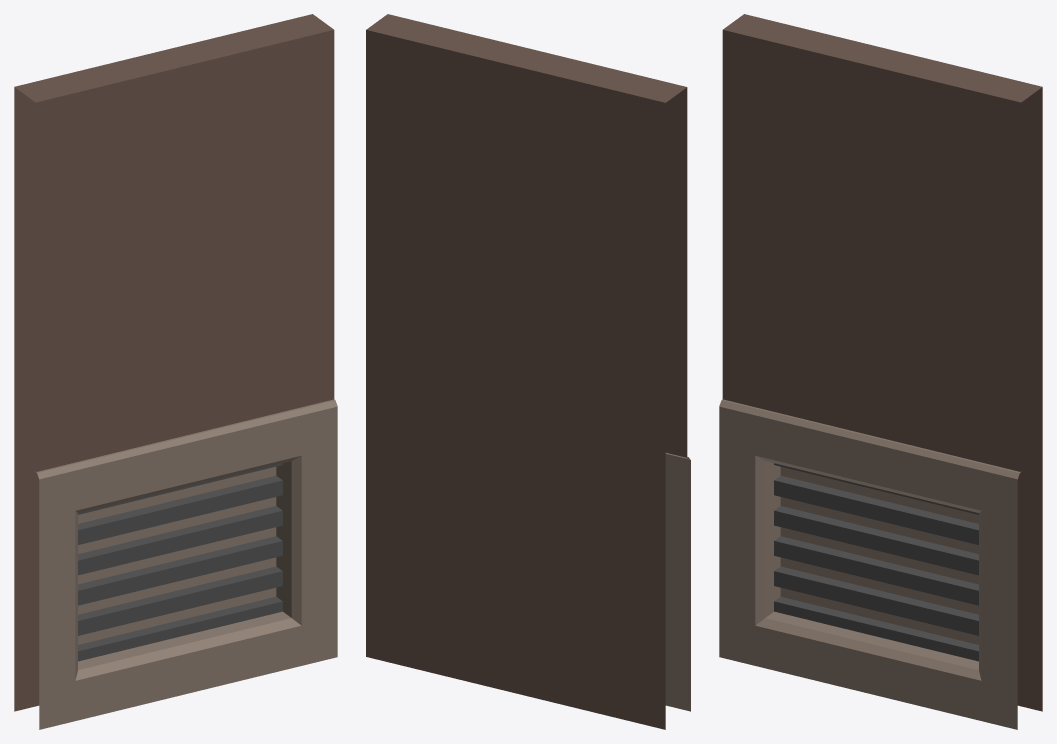
Rendered from pared_3.fbx.
3 views of the same model, side by side, from view 1: azimuth 30°, elevation 25°; view 2: azimuth 150°, elevation 25°; view 3: azimuth 330°, elevation 25° (orthographic).
Parts seen in each view (by area): view 1: base, zocalo, rejilla_pared_barrote_5, rejilla_pared_barrote_3, rejilla_pared_barrote_2, rejilla_pared_barrote_4, rejilla_pared_barrote_6; view 2: base, zocalo; view 3: base, zocalo, rejilla_pared_barrote_5, rejilla_pared_barrote_3, rejilla_pared_barrote_2, rejilla_pared_barrote_4, rejilla_pared_barrote_6.
Part boxes in pixels (x1,y1,x2,y2): base: (14,14,334,711); zocalo: (35,399,337,729); rejilla_pared_barrote_5: (78,566,282,635); rejilla_pared_barrote_3: (78,506,282,575); rejilla_pared_barrote_2: (78,475,282,544); rejilla_pared_barrote_4: (78,536,282,605); rejilla_pared_barrote_6: (78,596,282,661); base: (366,14,687,729); zocalo: (665,453,690,711); base: (722,14,1042,711); zocalo: (719,399,1021,729); rejilla_pared_barrote_5: (774,566,978,635); rejilla_pared_barrote_3: (774,506,978,575); rejilla_pared_barrote_2: (774,475,978,544); rejilla_pared_barrote_4: (774,536,978,605); rejilla_pared_barrote_6: (774,596,978,661).
Bounding box in the file's own units: 100 × 200 × 14.51.
